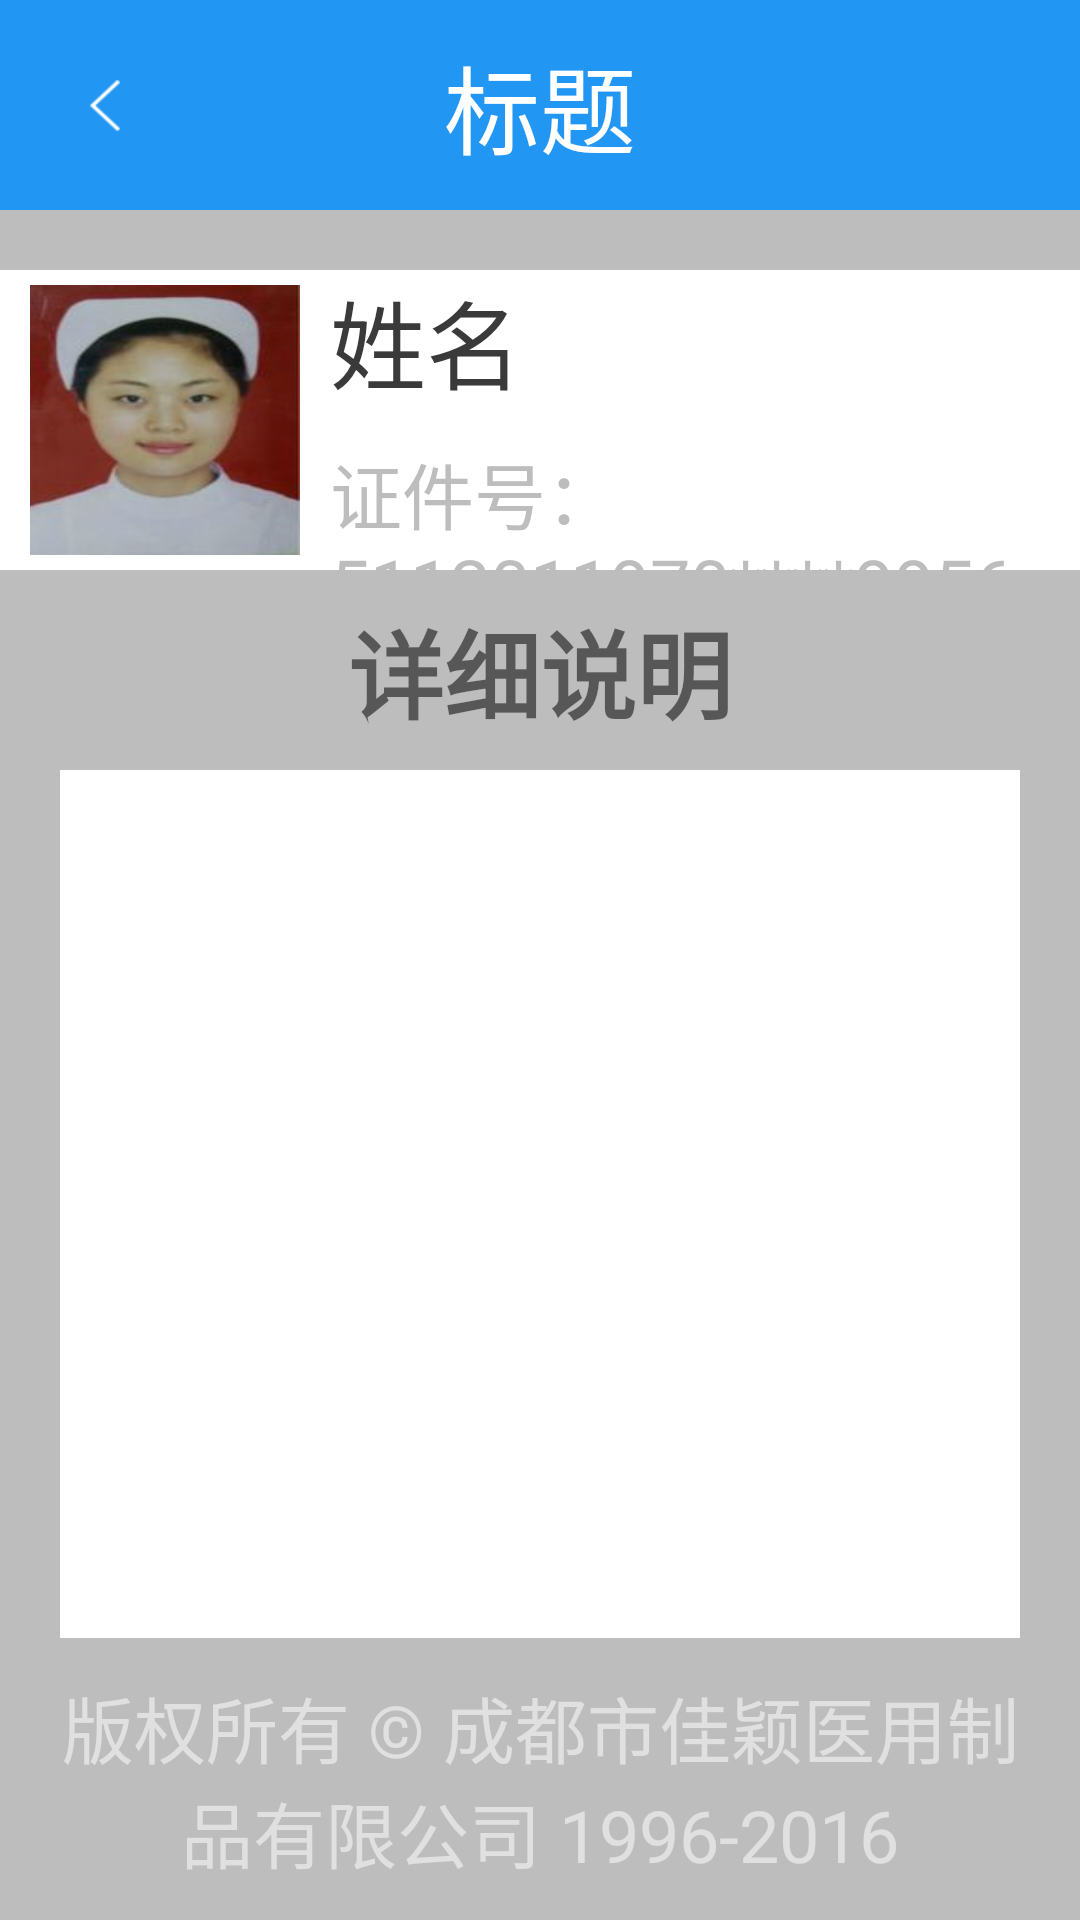

Icon click points for this 1080 x 1920 phone screenshot, format [x,y]:
jiantou press: [105,105]
norse: [165,420]
